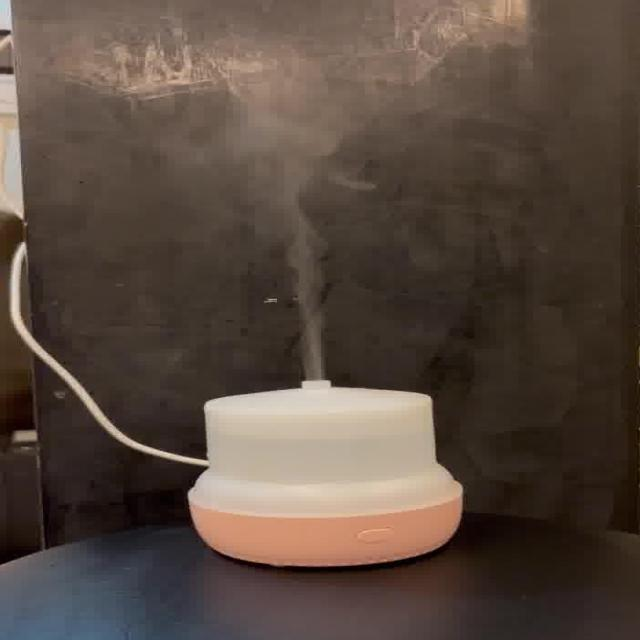fire: (194, 106, 367, 375)
